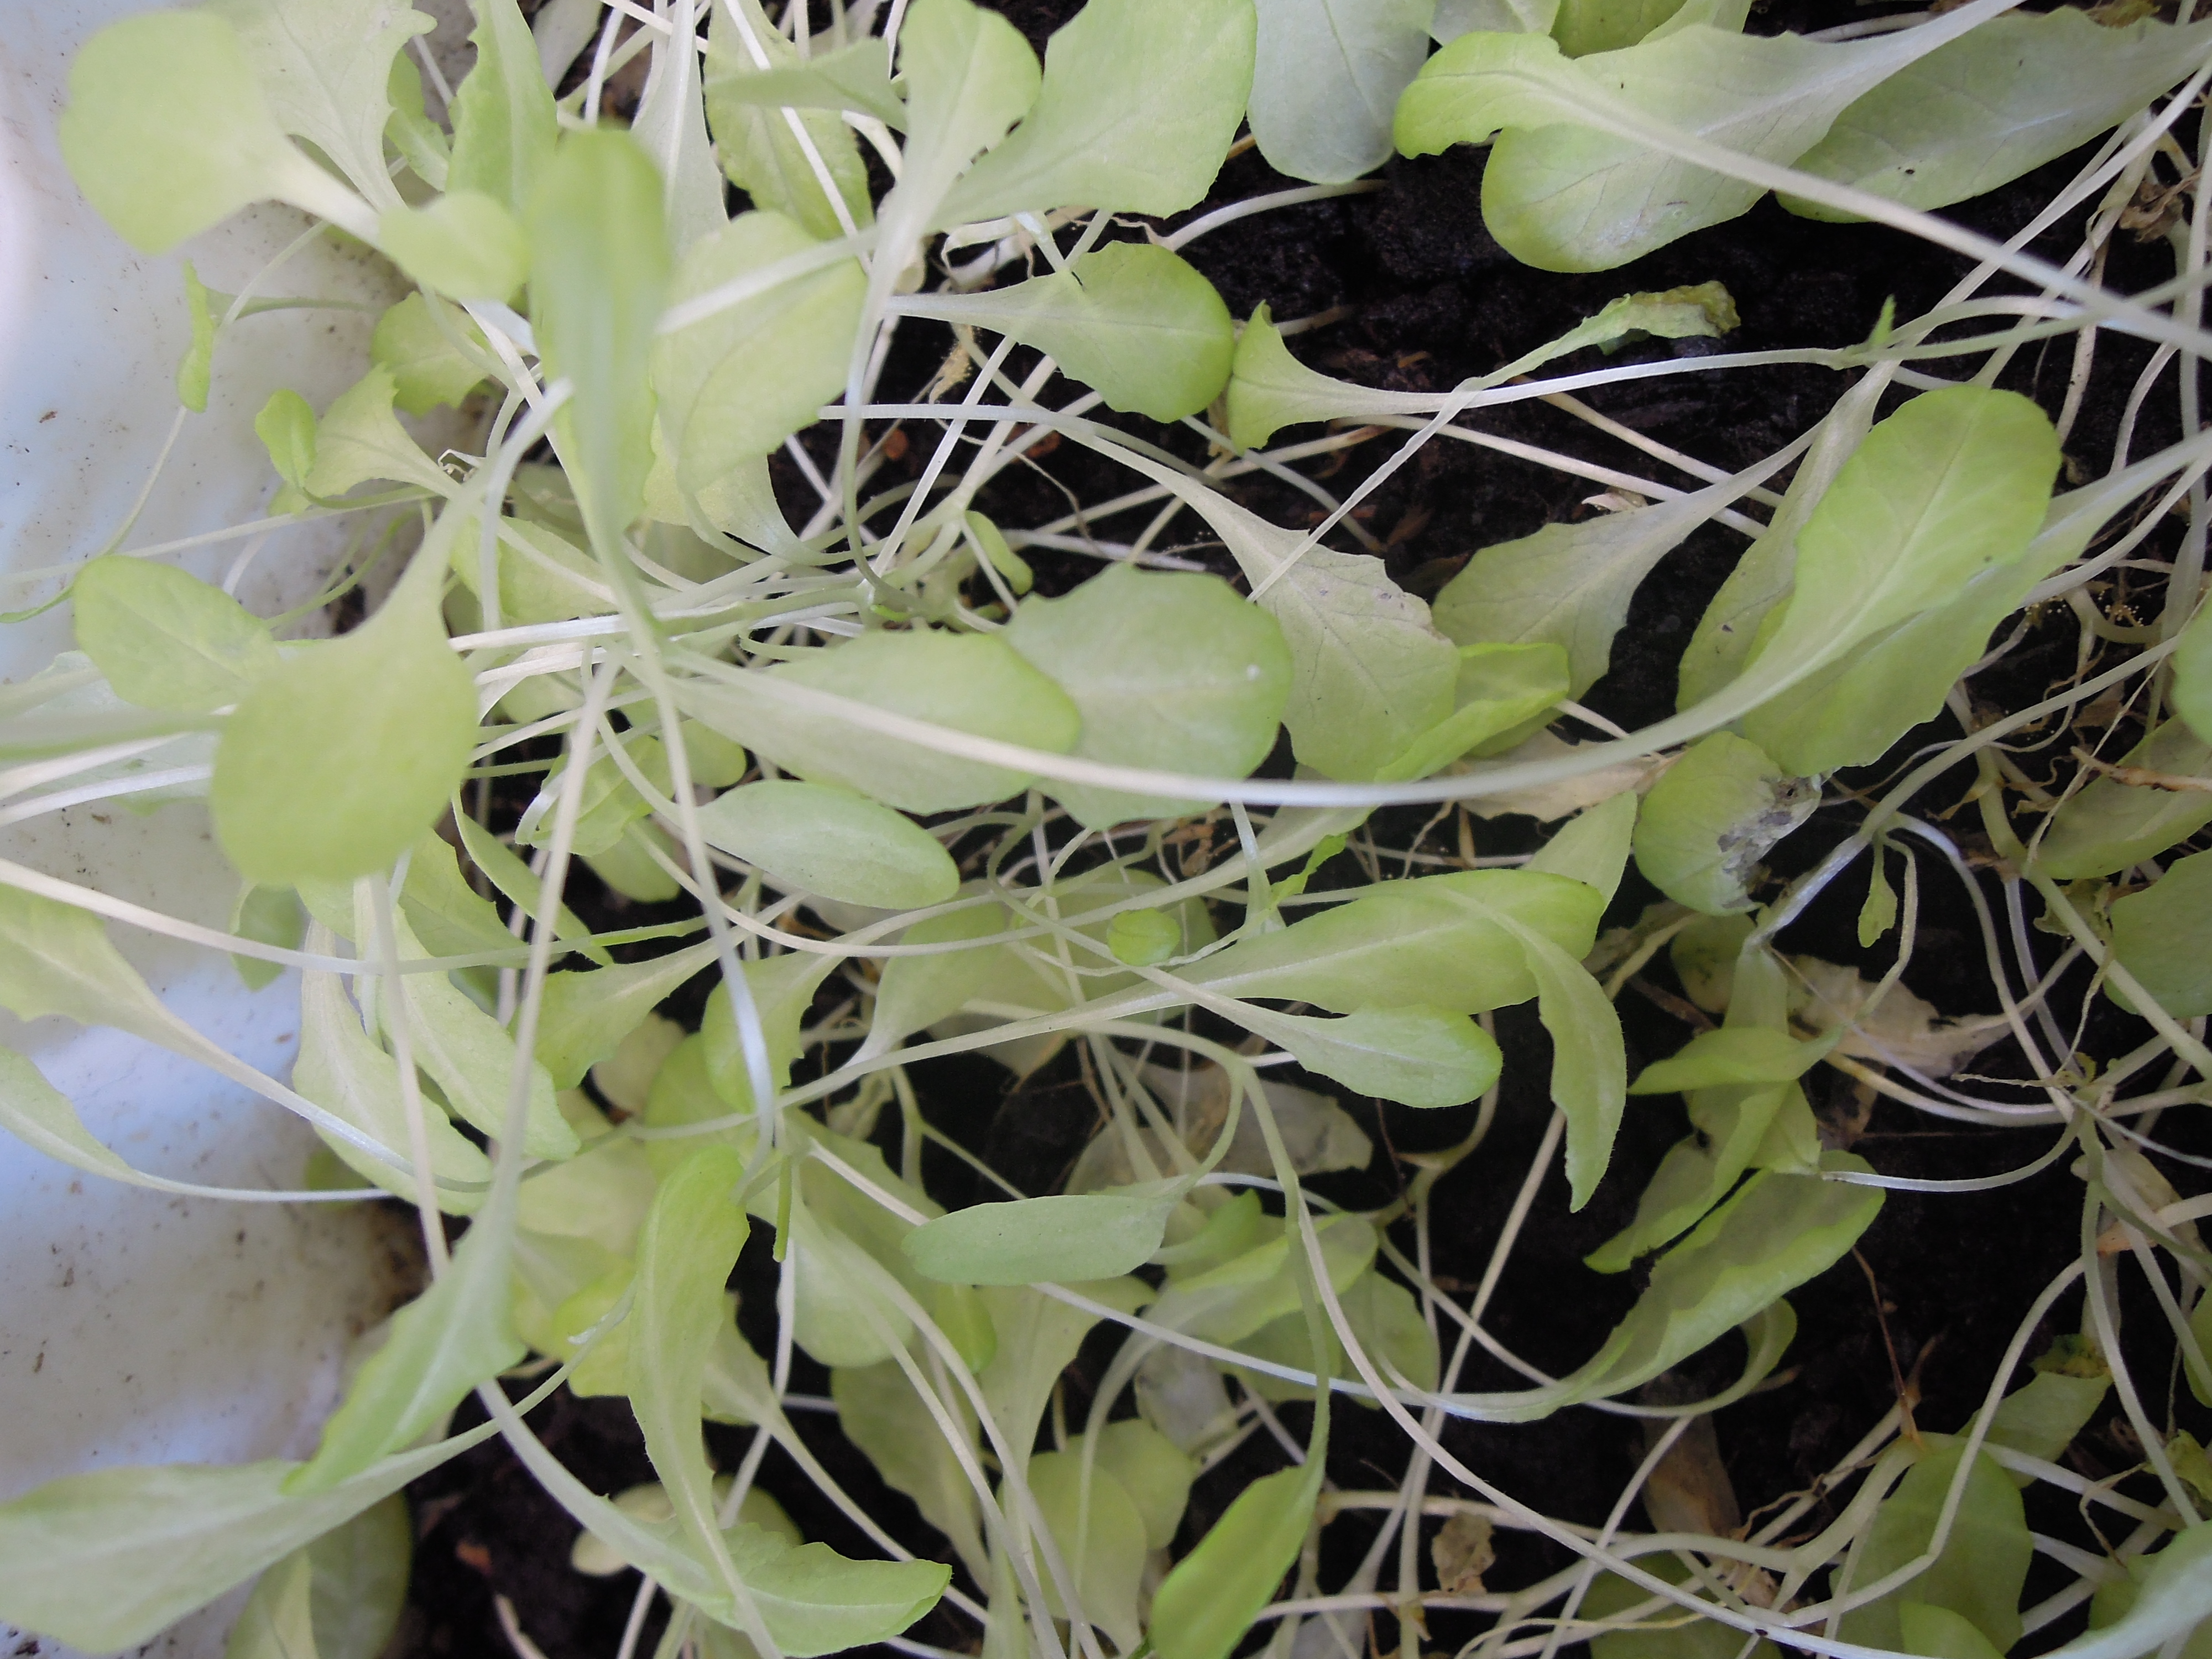weeek6: (21, 51, 2059, 1631)
